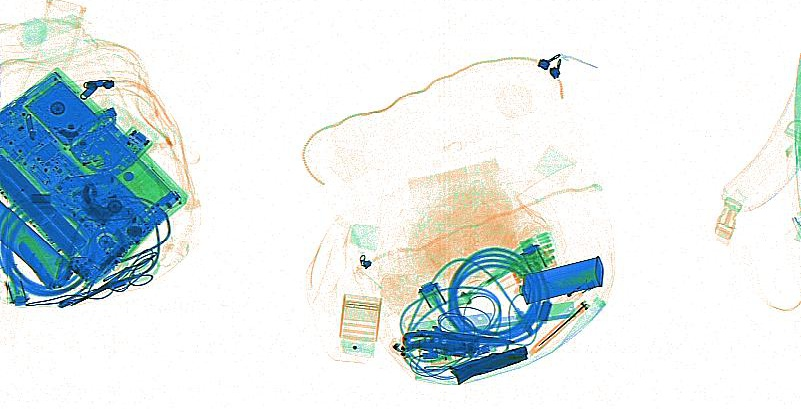knife: (527, 299, 590, 354), (449, 343, 528, 384), (16, 233, 61, 290), (400, 330, 479, 356)
pressure: (1, 199, 77, 290)
scissors: (400, 312, 515, 358)
zippooil: (518, 253, 604, 304)
